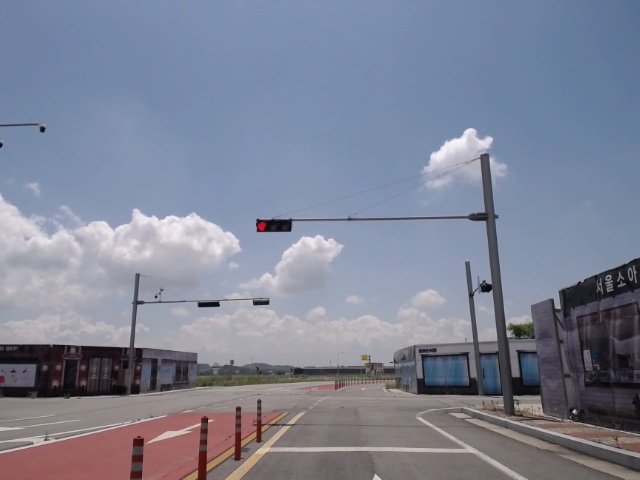red_3: (253, 218, 295, 232)
